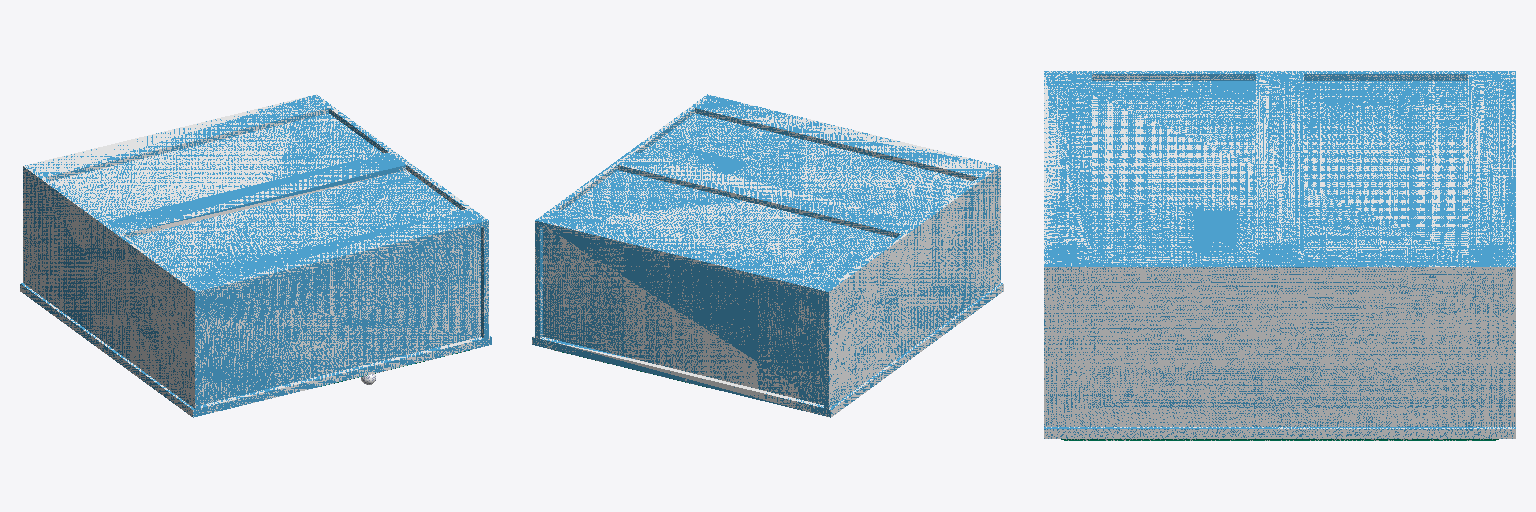
URDF robot description (right-pull-door):
<robot name="right-pull-door">
	<link name="base" />
	<link name="link_0">
		<visual name="out-frame">
			<origin xyz="0 0 0" />
			<geometry>
				<mesh filename="texture_dae/frame.dae" scale="0.8 0.8 0.8" />
			</geometry>
		</visual>
		<collision>
			<origin xyz="0 0 0" />
			<geometry>
				<mesh filename="texture_dae/frame.dae" scale="0.8 0.8 0.8" />
			</geometry>
		</collision>
	</link>
	<joint name="joint_0" type="fixed">
		<origin rpy="1.570796326794897 0 -1.570796326794897" xyz="0 0 0" />
		<child link="link_0" />
		<parent link="base" />
	</joint>
	<link name="link_1">
		<visual name="surf-board">
			<origin xyz="1.0022579669952394 -0.23679975237374706 0" />
			<geometry>
				<mesh filename="texture_dae/board.dae" scale="0.8 0.8 0.8" />
			</geometry>
		</visual>
		<collision>
			<origin xyz="1.0022579669952394 -0.23679975237374706 0" />
			<geometry>
				<mesh filename="texture_dae/board.dae" scale="0.8 0.8 0.8" />
			</geometry>
		</collision>
	</link>
	<joint name="joint_1" type="revolute">
		<origin xyz="-1.0022579669952394 0.23679975237374706 0" />
		<axis xyz="0 -1 0" />
		<child link="link_1" />
		<parent link="link_0" />
		<limit lower="0" upper="1.5079644737231006" />
	</joint>
	<link name="link_2">
		<visual name="handle">
			<origin xyz="0 0 0" />
			<geometry>
				<mesh filename="texture_dae/9962009.dae" scale="0.9663451678902796 0.9663451678902796 0.9663451678902796" />
			</geometry>
		</visual>
		<collision>
			<origin xyz="0 0 0" />
			<geometry>
				<mesh filename="texture_dae/9962009.dae" scale="0.9663451678902796 0.9663451678902796 0.9663451678902796" />
			</geometry>
		</collision>
	</link>
	<joint name="joint_2" type="revolute">
		<origin xyz="1.0022579669952394 -0.23679975237374706 0.013909458598900427" />
		<child link="link_2" />
		<parent link="link_1" />
		<axis xyz="0 0 1" />
		<limit lower="0" upper="0" />
	</joint>
</robot>

--- Render facts (derived) ---
3 views of the same robot in one strip: view 1: azimuth 30°, elevation 25°; view 2: azimuth 150°, elevation 25°; view 3: azimuth 270°, elevation 25° (orthographic).
Robot: right-pull-door — 4 links, 3 joints (2 revolute, 1 fixed); root link base; default pose: all joints at 0.
Visible links, largest first — view 1: link_0; view 2: link_0; view 3: link_0, link_1.
Boxes of the visible links, x1,y1,x2,y2 form: link_0: (20, 94, 491, 417); link_0: (532, 94, 1003, 417); link_0: (1044, 71, 1515, 438); link_1: (1061, 439, 1498, 440).
Size in the robot's own frame: 1.12 by 1.12 by 0.5283 metres.
Meshes: 3 distinct files referenced, 3 mesh visuals loaded (3 Collada DAE).
